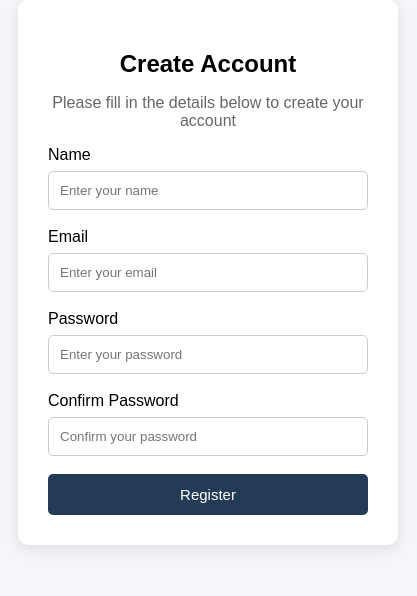
Register Component › should show error when passwords do not match
Type "Shipra" into the field with placeholder "Enter your name" at (208, 190), box [48, 171, 368, 210]
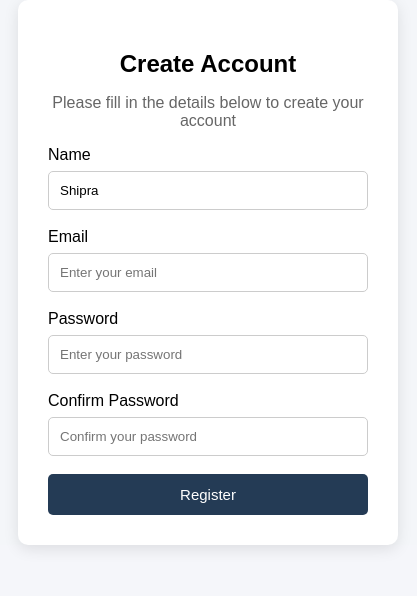
Type "shipra@gmail.com" into the field with placeholder "Enter your email" at (208, 272), box [48, 253, 368, 292]
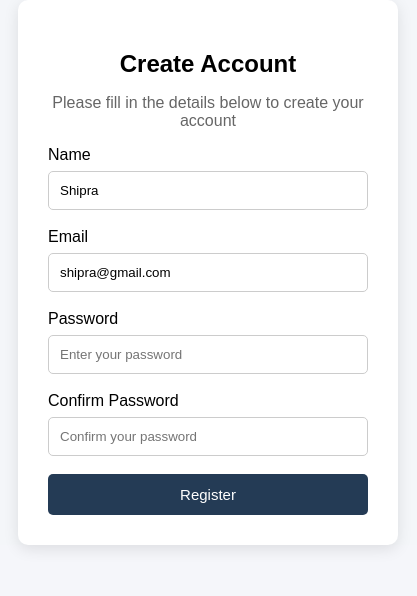
Type "Shipra@123" into the password field with placeholder "Enter your password" at (208, 354), box [48, 335, 368, 374]
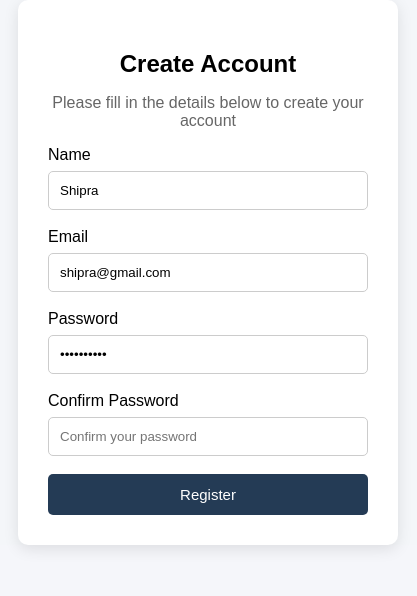
Type "Wrong@123" into the password field with placeholder "Confirm your password" at (208, 436), box [48, 417, 368, 456]
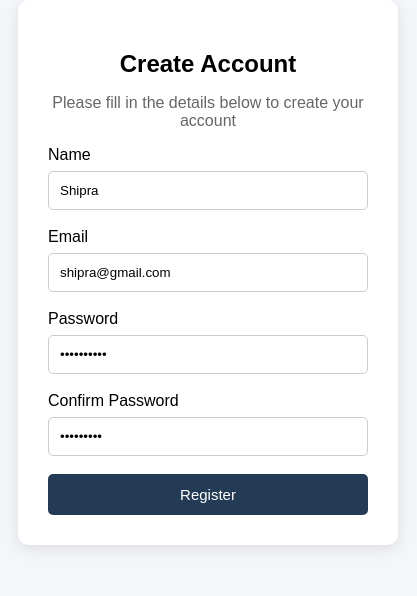
Click the button "Register" at (208, 494), box [48, 474, 368, 515]
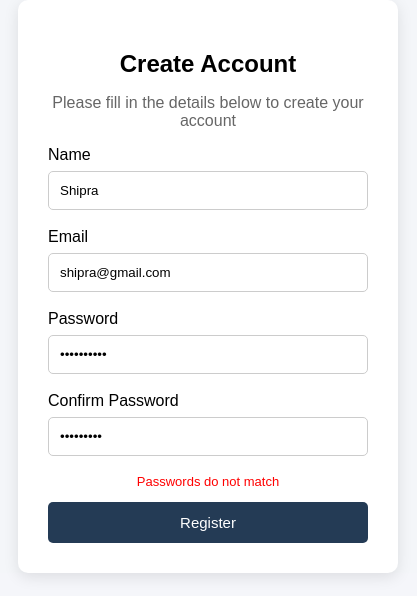
Result: the text "Passwords do not match" is shown at [137, 474, 279, 489]
